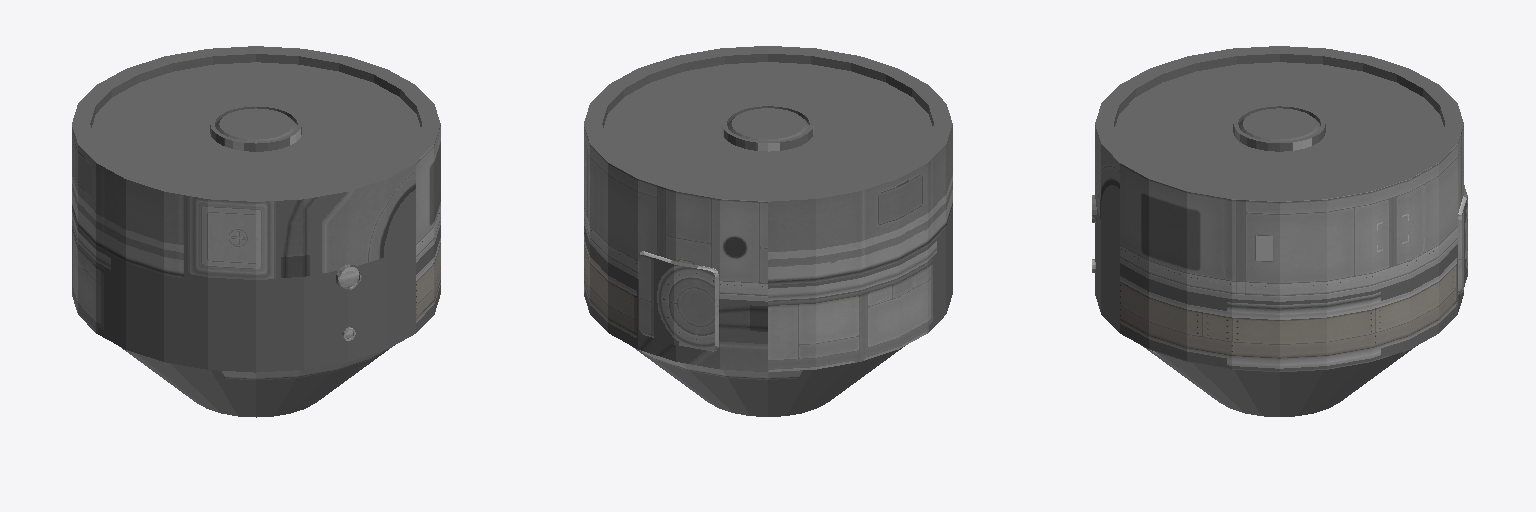
3 views of the same model, side by side, from view 1: azimuth 30°, elevation 25°; view 2: azimuth 150°, elevation 25°; view 3: azimuth 270°, elevation 25° (orthographic).
Parts seen in each view (by area): view 1: Acamar_Lab_1; view 2: Acamar_Lab_1; view 3: Acamar_Lab_1.
Part boxes in pixels (bbox=[...]): Acamar_Lab_1: bbox=[72, 46, 440, 417]; Acamar_Lab_1: bbox=[584, 46, 952, 416]; Acamar_Lab_1: bbox=[1092, 46, 1467, 416].
Bounding box in the file's own units: 2.5 × 1.98 × 2.54.
2 materials, 1 textured.